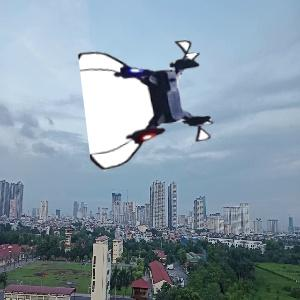drone: (85, 37, 215, 167)
